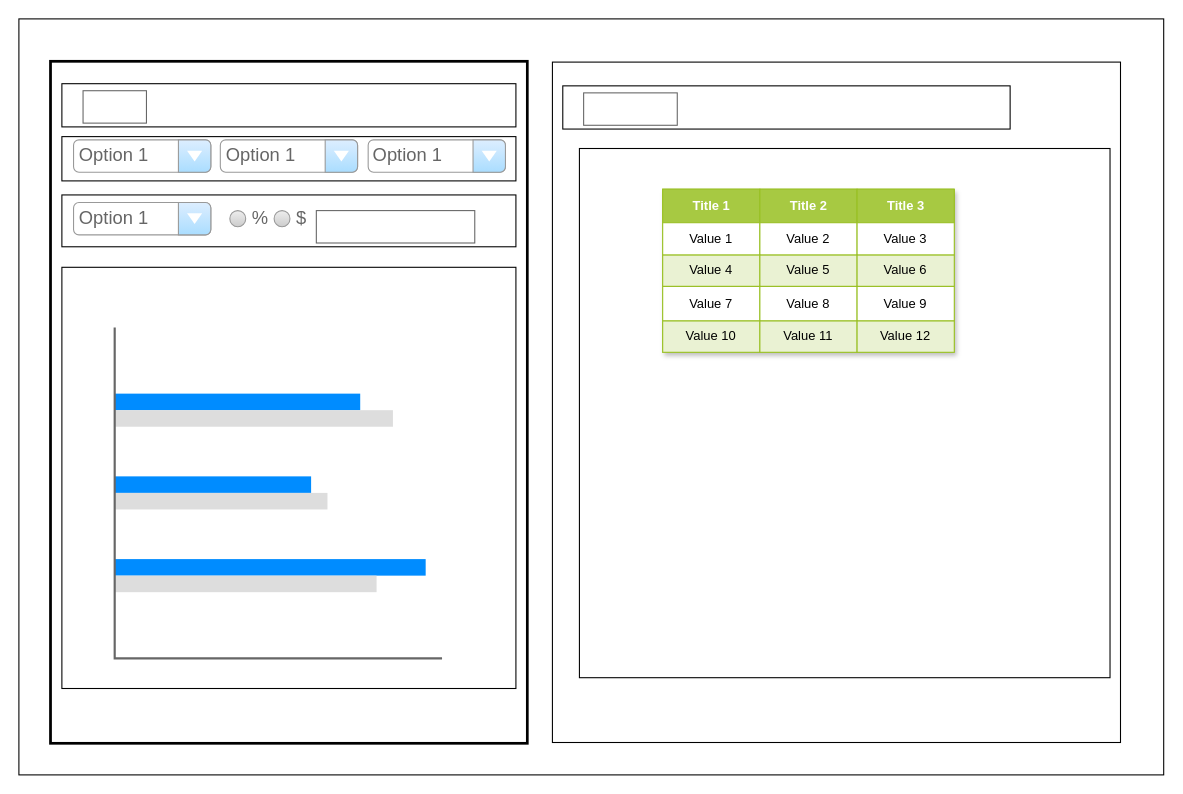
This 1183x794 diagram has some shape labels left out. Here are the shapes that lost their labels. From the top down, the centre of each, then its label:
At point 114,106: "Gains".
At point 630,108: "Positions".
At point 395,226: "Total: $2,000,000".
